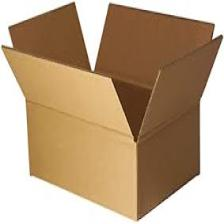cardboard: (2, 7, 217, 218)
